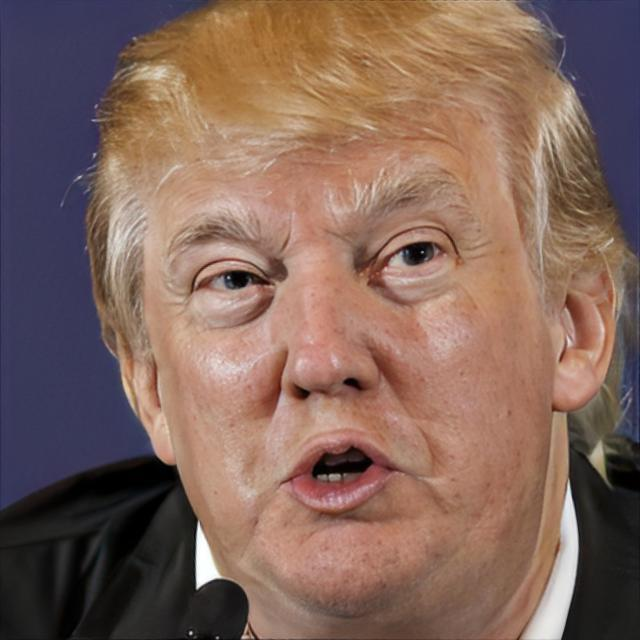anger: (148, 74, 562, 620)
